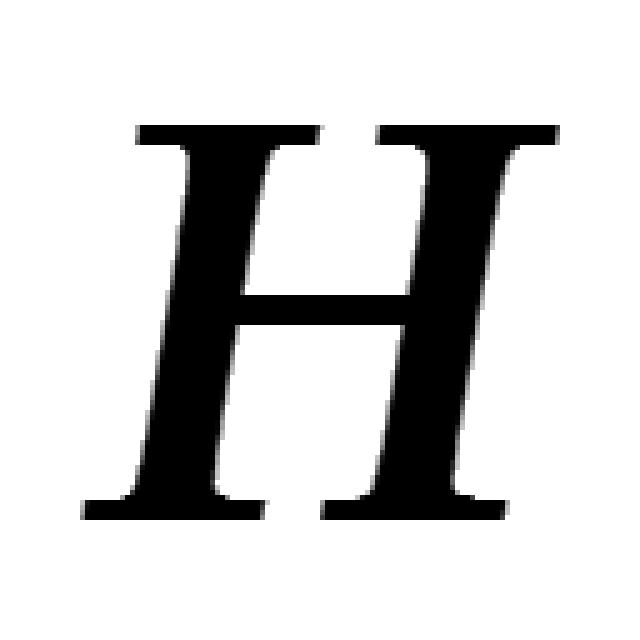H: (85, 125, 560, 520)
